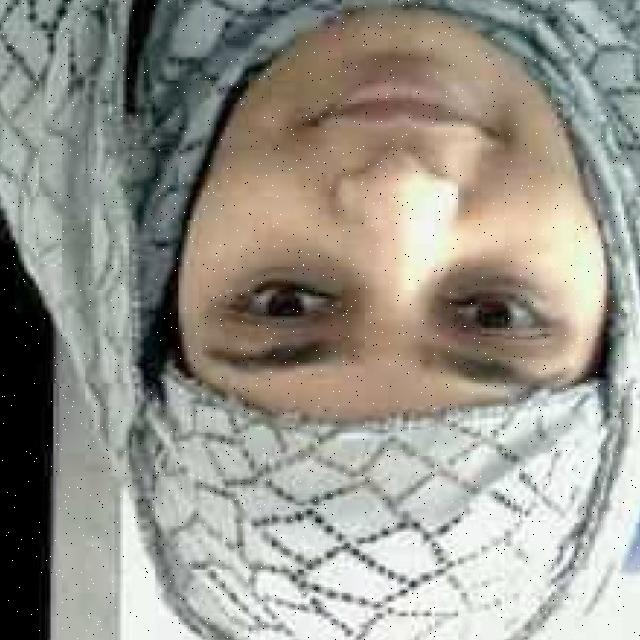puffy_eyes: (456, 281, 547, 304)
